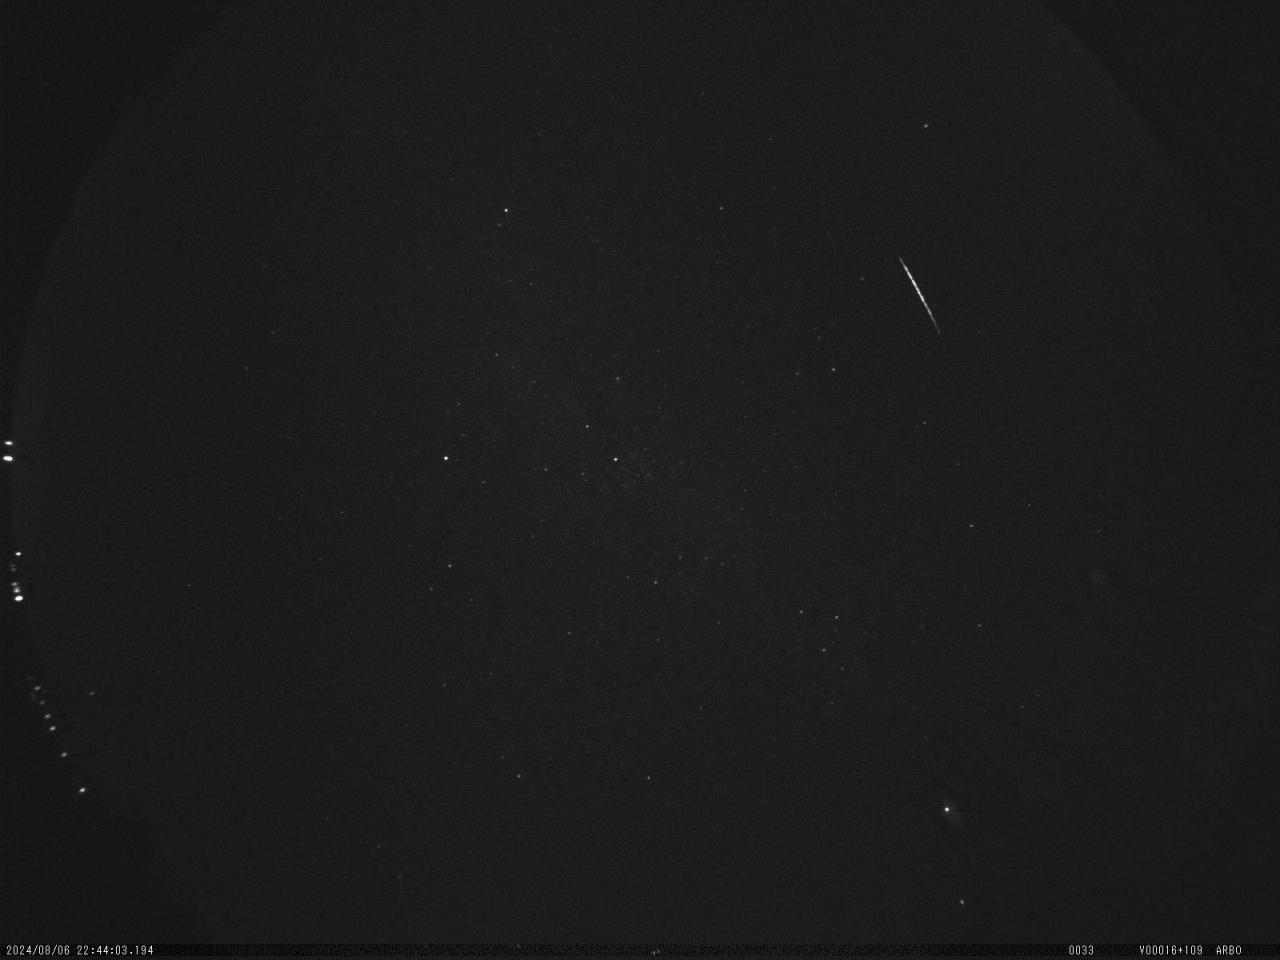Meteor: (896, 253, 941, 335)
